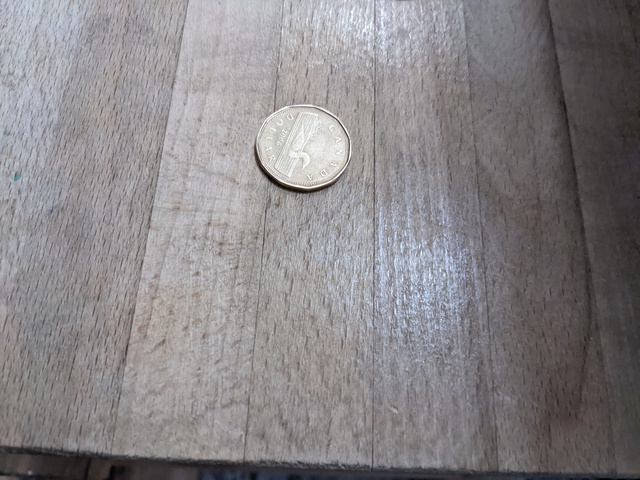loonie: (243, 93, 364, 208)
